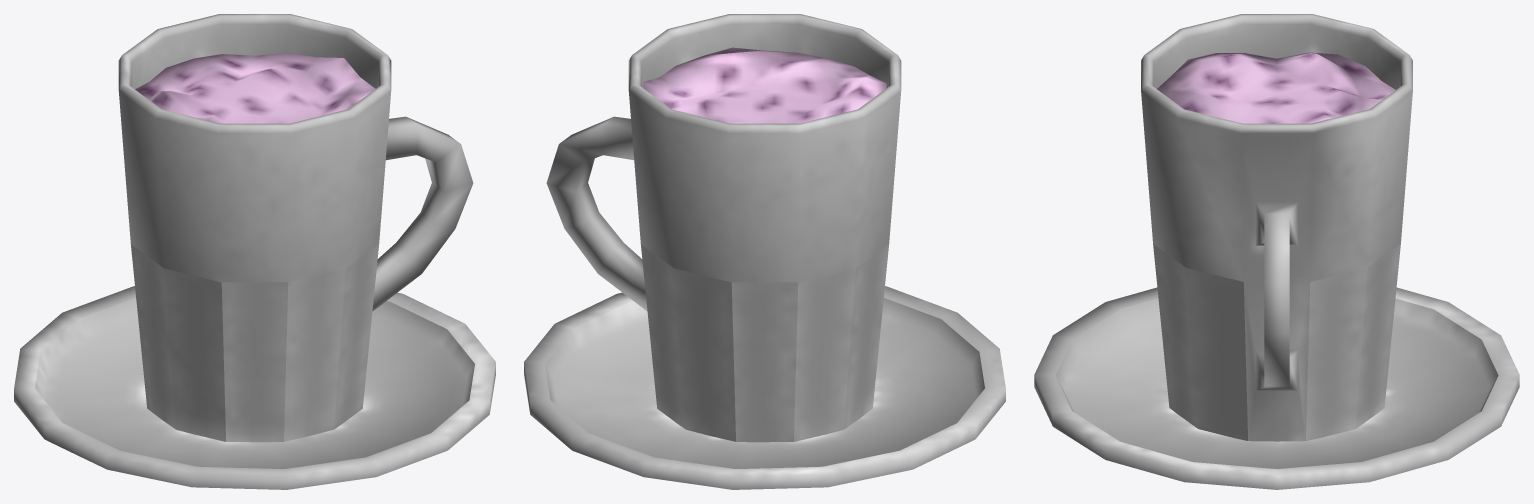
The model's file is LavenderRaf.fbx.
3 views of the same model, side by side, from view 1: azimuth 30°, elevation 25°; view 2: azimuth 150°, elevation 25°; view 3: azimuth 270°, elevation 25° (orthographic).
Visible parts, largest first — view 1: LavenderRaf; view 2: LavenderRaf; view 3: LavenderRaf.
Boxes of the visible parts, bbox=[...] form: LavenderRaf: bbox=[14, 14, 495, 489]; LavenderRaf: bbox=[524, 14, 1005, 489]; LavenderRaf: bbox=[1034, 14, 1519, 489].
Size of the model in its own units: 13.46 by 10.7 by 13.41.
